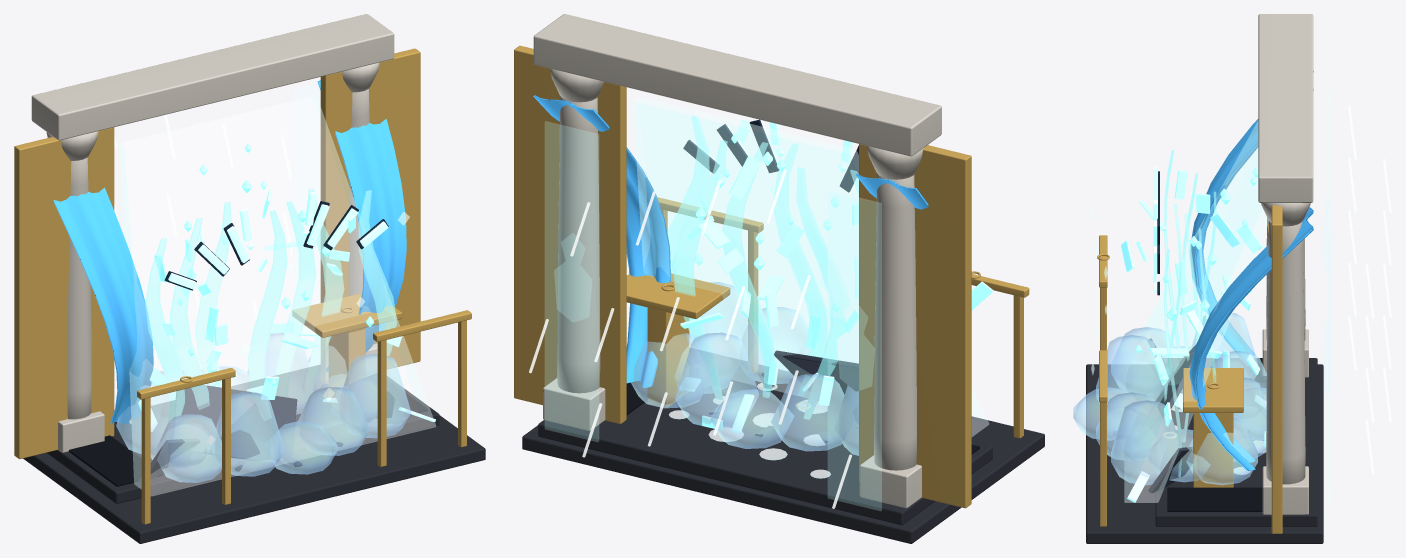
File: webtoon-heathaze-tempest-aftermath-plume-v27.glb
The picture shows the model from 3 angles, left to right: view 1: azimuth 30°, elevation 25°; view 2: azimuth 150°, elevation 25°; view 3: azimuth 270°, elevation 25°; orthographic projection. The views are drawn at different scales.
Visible parts, largest first — view 1: Volumetric_V27Stage3_TempestHaze_GodRaySlit, Articulated_V27Stage3_TempestHaze_DoorsAndIkRig, V27Stage3_TempestHaze_PortalColonnade, V27Stage3_TempestHaze_DatumDeck, AftermathDust_V27Stage3_TempestHaze_PlumeLobes, WindDrape_V27Stage3_TempestHaze_CatenaryPair, ThermalHaze_V27Stage3_TempestHaze_ConvectiveRibbons, Aftermath_V27Stage3_TempestHaze_DatumProps, Aftermath_V27Stage3_TempestHaze_PrismShards, ZDepthSFX_V27Stage3_TempestHaze_GlyphCore, ShadowDrift_V27Stage3_TempestHaze_UmbraMask, ZDepthSFX_V27Stage3_TempestHaze_ShadowPlate (+2 smaller); view 2: Articulated_V27Stage3_TempestHaze_DoorsAndIkRig, V27Stage3_TempestHaze_PortalColonnade, Volumetric_V27Stage3_TempestHaze_GodRaySlit, HalfMirror_V27Stage3_TempestHaze_FresnelReflection, V27Stage3_TempestHaze_DatumDeck, AftermathDust_V27Stage3_TempestHaze_PlumeLobes, ThermalHaze_V27Stage3_TempestHaze_ConvectiveRibbons, WindDrape_V27Stage3_TempestHaze_CatenaryPair, Aftermath_V27Stage3_TempestHaze_PrismShards, Weather_V27Stage3_TempestHaze_ExteriorOccluded, Aftermath_V27Stage3_TempestHaze_DatumProps, ZDepthSFX_V27Stage3_TempestHaze_ShadowPlate (+3 smaller); view 3: V27Stage3_TempestHaze_PortalColonnade, V27Stage3_TempestHaze_DatumDeck, AftermathDust_V27Stage3_TempestHaze_PlumeLobes, Volumetric_V27Stage3_TempestHaze_GodRaySlit, Articulated_V27Stage3_TempestHaze_DoorsAndIkRig, WindDrape_V27Stage3_TempestHaze_CatenaryPair, Aftermath_V27Stage3_TempestHaze_PrismShards, ThermalHaze_V27Stage3_TempestHaze_ConvectiveRibbons, ShadowDrift_V27Stage3_TempestHaze_UmbraMask, Aftermath_V27Stage3_TempestHaze_DatumProps, Weather_V27Stage3_TempestHaze_ExteriorOccluded, HalfMirror_V27Stage3_TempestHaze_FresnelReflection (+2 smaller).
Boxes of the visible parts, x1,y1,x2,y2 form: Volumetric_V27Stage3_TempestHaze_GodRaySlit: [120, 96, 435, 495]; Articulated_V27Stage3_TempestHaze_DoorsAndIkRig: [14, 48, 471, 524]; V27Stage3_TempestHaze_PortalColonnade: [31, 14, 394, 452]; V27Stage3_TempestHaze_DatumDeck: [23, 365, 485, 543]; AftermathDust_V27Stage3_TempestHaze_PlumeLobes: [116, 333, 411, 482]; WindDrape_V27Stage3_TempestHaze_CatenaryPair: [53, 80, 406, 424]; ThermalHaze_V27Stage3_TempestHaze_ConvectiveRibbons: [145, 189, 396, 422]; Aftermath_V27Stage3_TempestHaze_DatumProps: [138, 373, 403, 482]; Aftermath_V27Stage3_TempestHaze_PrismShards: [138, 189, 435, 431]; ZDepthSFX_V27Stage3_TempestHaze_GlyphCore: [168, 192, 388, 289]; ShadowDrift_V27Stage3_TempestHaze_UmbraMask: [69, 381, 427, 486]; ZDepthSFX_V27Stage3_TempestHaze_ShadowPlate: [164, 201, 388, 290]; Articulated_V27Stage3_TempestHaze_DoorsAndIkRig: [514, 45, 1029, 508]; V27Stage3_TempestHaze_PortalColonnade: [533, 14, 941, 508]; Volumetric_V27Stage3_TempestHaze_GodRaySlit: [633, 97, 988, 436]; HalfMirror_V27Stage3_TempestHaze_FresnelReflection: [545, 121, 881, 510]; V27Stage3_TempestHaze_DatumDeck: [522, 357, 1044, 543]; AftermathDust_V27Stage3_TempestHaze_PlumeLobes: [631, 282, 858, 455]; ThermalHaze_V27Stage3_TempestHaze_ConvectiveRibbons: [667, 115, 858, 419]; WindDrape_V27Stage3_TempestHaze_CatenaryPair: [533, 95, 928, 388]; Aftermath_V27Stage3_TempestHaze_PrismShards: [671, 119, 993, 432]; Weather_V27Stage3_TempestHaze_ExteriorOccluded: [529, 169, 851, 508]; Aftermath_V27Stage3_TempestHaze_DatumProps: [707, 350, 858, 445]; ZDepthSFX_V27Stage3_TempestHaze_ShadowPlate: [683, 119, 858, 192]; V27Stage3_TempestHaze_PortalColonnade: [1258, 14, 1313, 514]; V27Stage3_TempestHaze_DatumDeck: [1086, 358, 1323, 543]; AftermathDust_V27Stage3_TempestHaze_PlumeLobes: [1073, 313, 1266, 485]; Volumetric_V27Stage3_TempestHaze_GodRaySlit: [1124, 121, 1268, 502]; Articulated_V27Stage3_TempestHaze_DoorsAndIkRig: [1097, 205, 1282, 533]; WindDrape_V27Stage3_TempestHaze_CatenaryPair: [1189, 71, 1313, 470]; Aftermath_V27Stage3_TempestHaze_PrismShards: [1121, 170, 1266, 502]; ThermalHaze_V27Stage3_TempestHaze_ConvectiveRibbons: [1164, 150, 1216, 476]; ShadowDrift_V27Stage3_TempestHaze_UmbraMask: [1167, 358, 1266, 511]; Aftermath_V27Stage3_TempestHaze_DatumProps: [1114, 338, 1248, 493]; Weather_V27Stage3_TempestHaze_ExteriorOccluded: [1348, 106, 1391, 474]; HalfMirror_V27Stage3_TempestHaze_FresnelReflection: [1324, 88, 1330, 506].
Bounding box in the file's own units: 3.2 × 2.78 × 2.2.
